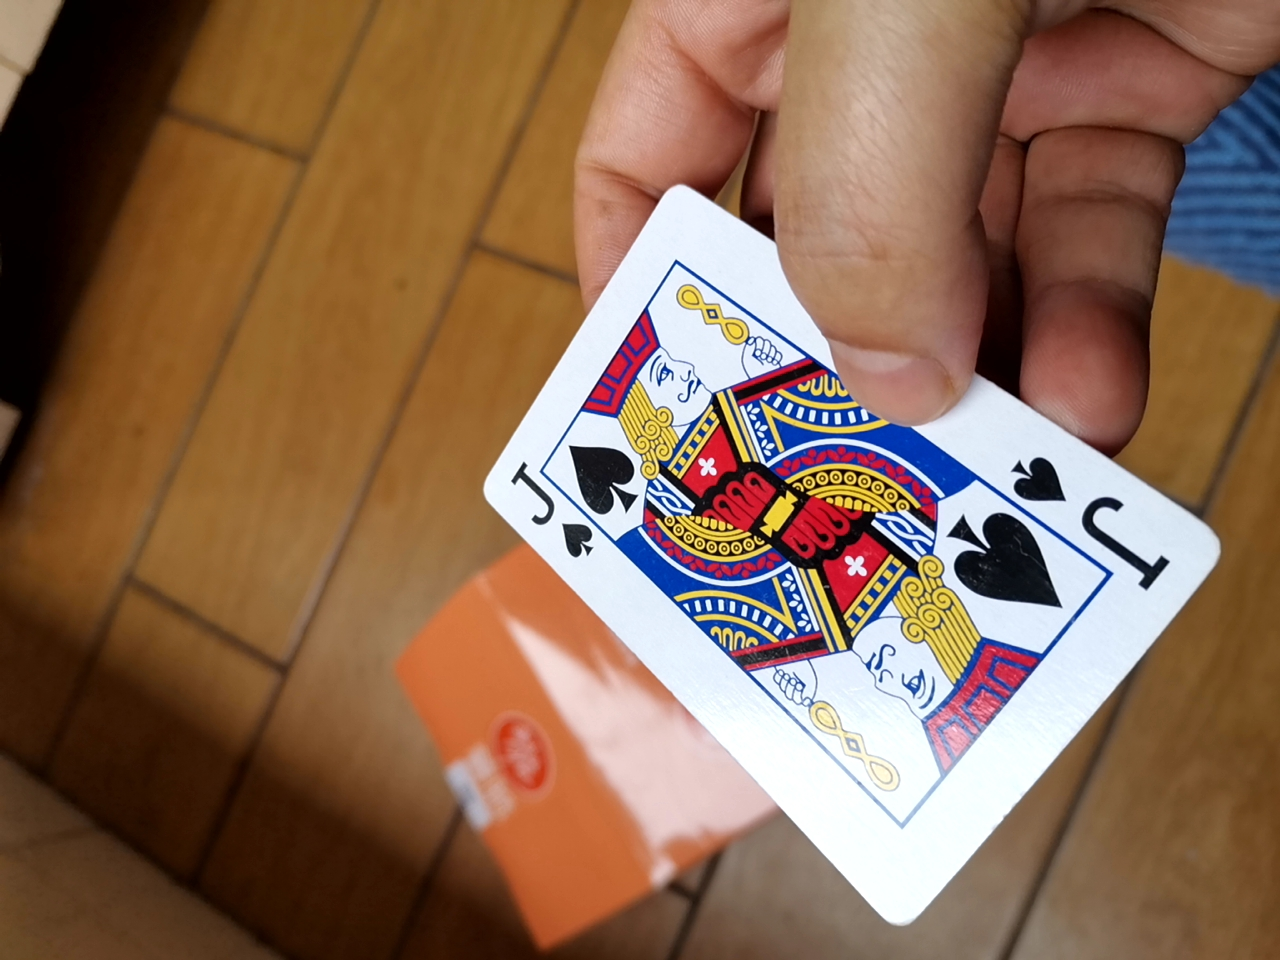ht j: (455, 169, 1185, 888)
